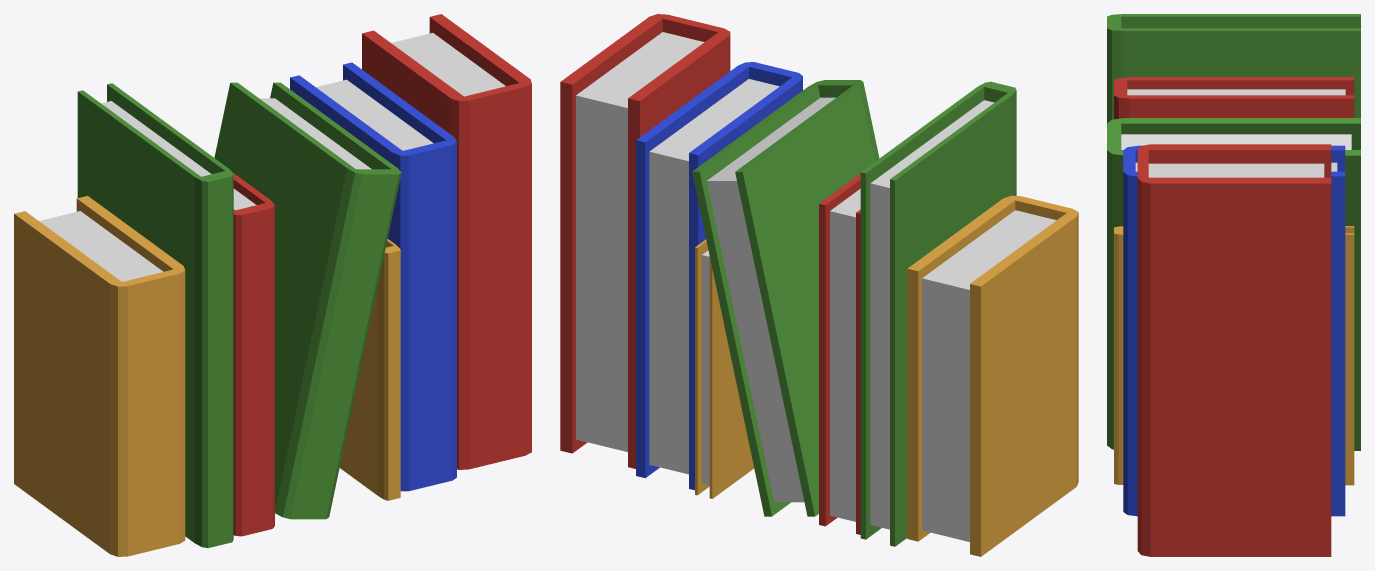
Rendered from Books_4.fbx.
3 renders of one model, left to right at view 1: azimuth 30°, elevation 25°; view 2: azimuth 150°, elevation 25°; view 3: azimuth 270°, elevation 25°, orthographic.
Visible parts, largest first — view 1: livre_3; view 2: livre_3; view 3: livre_3.
Part boxes in pixels (box(x1,y1,x2,y2)): livre_3: box(14, 14, 531, 556); livre_3: box(560, 14, 1078, 556); livre_3: box(1107, 14, 1360, 556).
Size of the model in its own units: 42.58 by 35.59 by 21.8.
